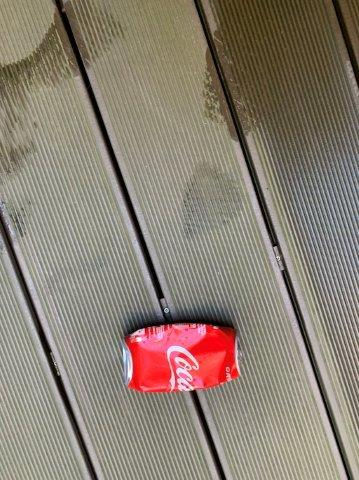kaleng: (124, 323, 241, 391)
